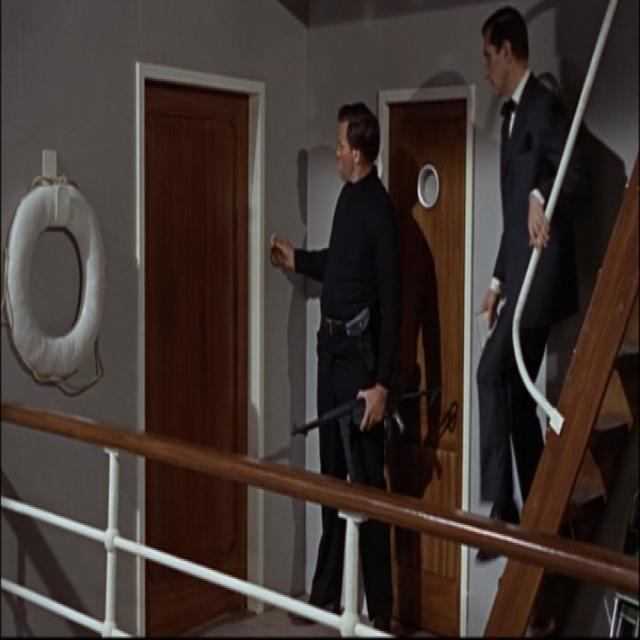rifle: (288, 364, 430, 490)
